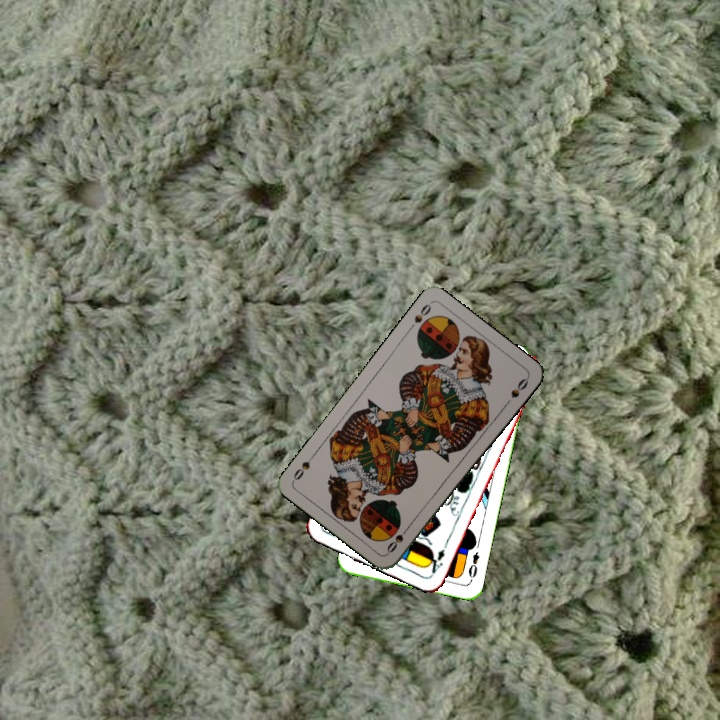EA: (423, 539, 450, 577)
EO: (464, 548, 482, 584)
SO: (383, 521, 413, 555), (404, 300, 434, 334)
